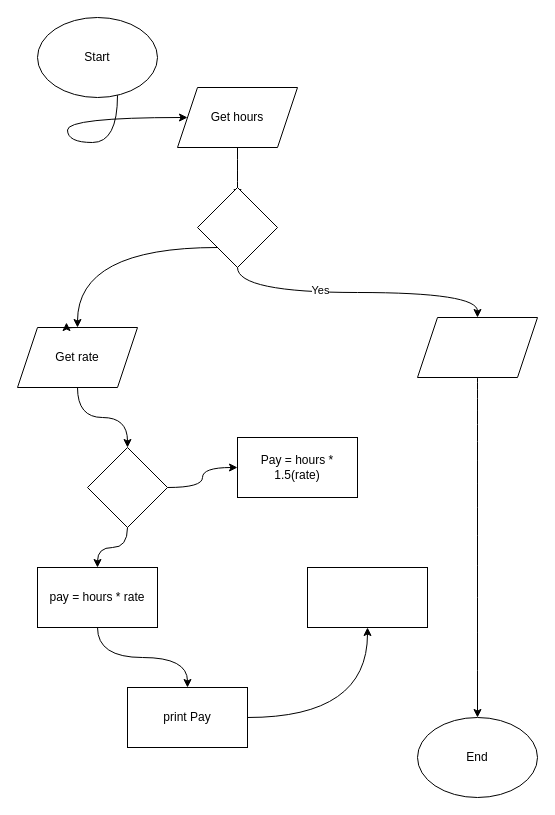
Some shapes in this 555 by 815 pixel diagram are drawn without their labels. The shapes that lost their labels are listed below. From the top down, each one's box as (x1, y1, x2, y2) in pixels, then its label:
(196, 186, 278, 268): is hour < 0
(416, 316, 538, 378): Display total pay
(86, 446, 168, 528): is hours > 40?
(306, 566, 428, 628): add pay to total pay
